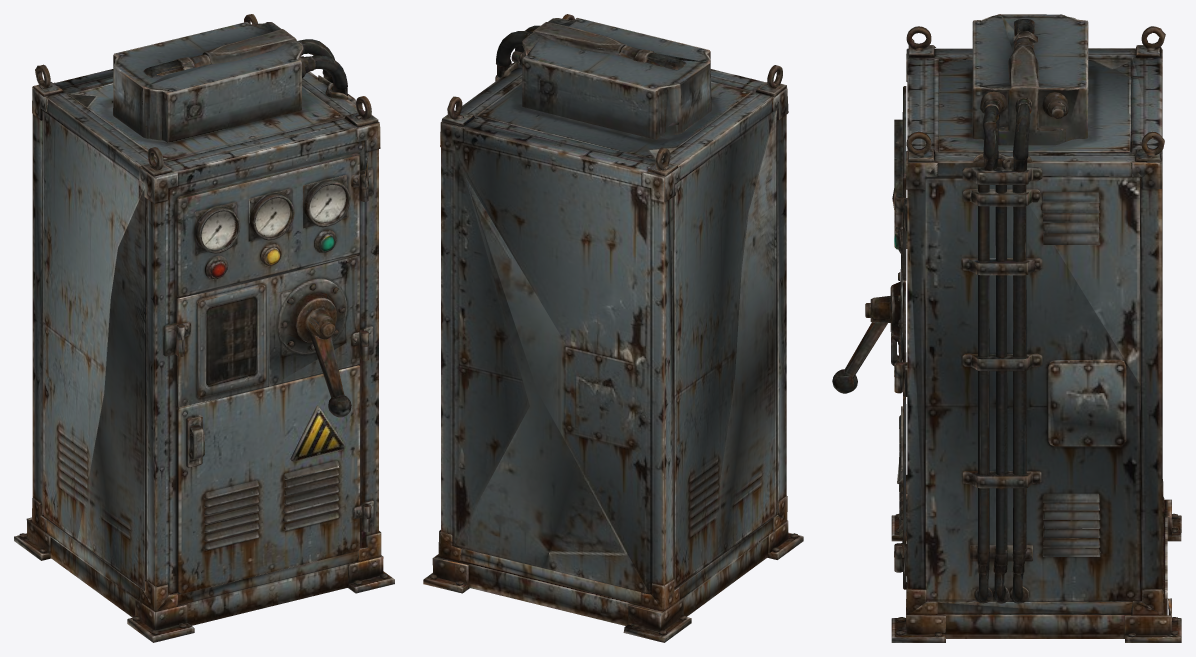
File: reactor-switchgear.glb
3 views of the same model, side by side, from view 1: azimuth 30°, elevation 25°; view 2: azimuth 150°, elevation 25°; view 3: azimuth 270°, elevation 25° (orthographic). The views are drawn at different scales.
Visible parts, largest first — view 1: reactor-switchgear; view 2: reactor-switchgear; view 3: reactor-switchgear.
Boxes of the visible parts, x1,y1,x2,y2 form: reactor-switchgear: (14, 14, 394, 642); reactor-switchgear: (423, 14, 803, 642); reactor-switchgear: (832, 14, 1181, 642).
Size of the model in its own units: 1.1 by 2.2 by 1.3.
Materials: 1 (1 with a texture image).
